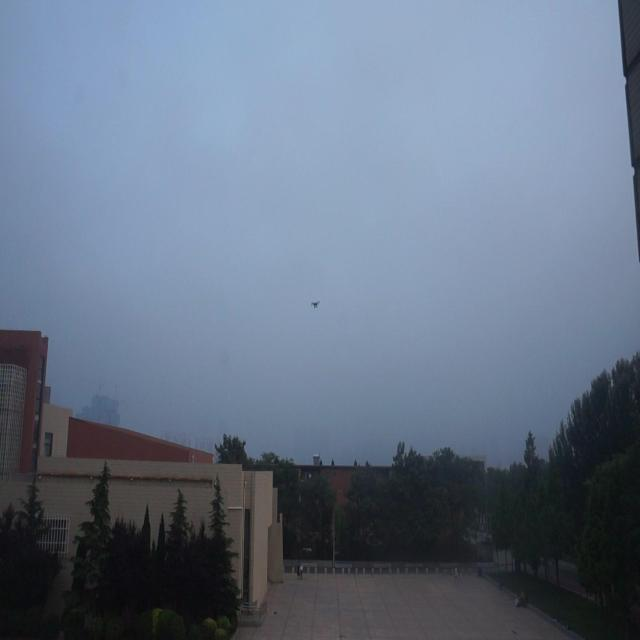drone: (309, 298, 321, 312)
